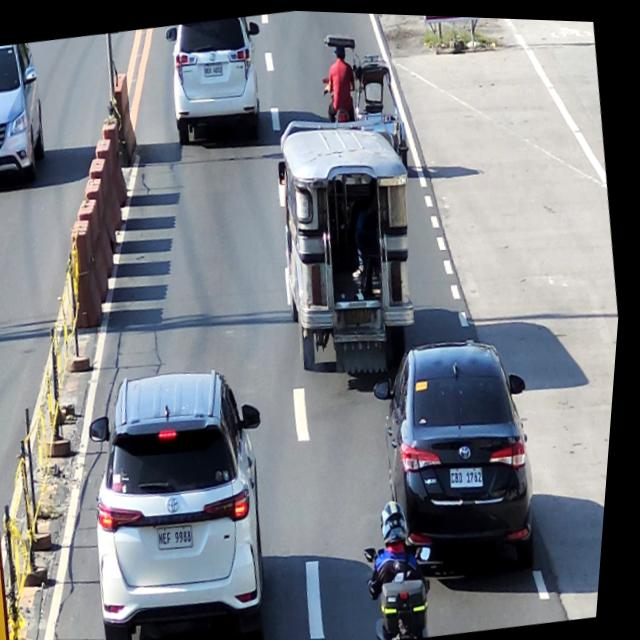Car: (73, 354, 307, 640), (365, 328, 563, 583), (159, 10, 277, 146), (0, 40, 59, 187)
Jeep: (260, 100, 446, 387)
License-Plate: (163, 520, 204, 551), (455, 460, 492, 487), (347, 302, 378, 325), (203, 61, 226, 78), (0, 152, 3, 169)
Motorcycle: (366, 533, 453, 640)
Tricycle: (313, 22, 422, 183)
